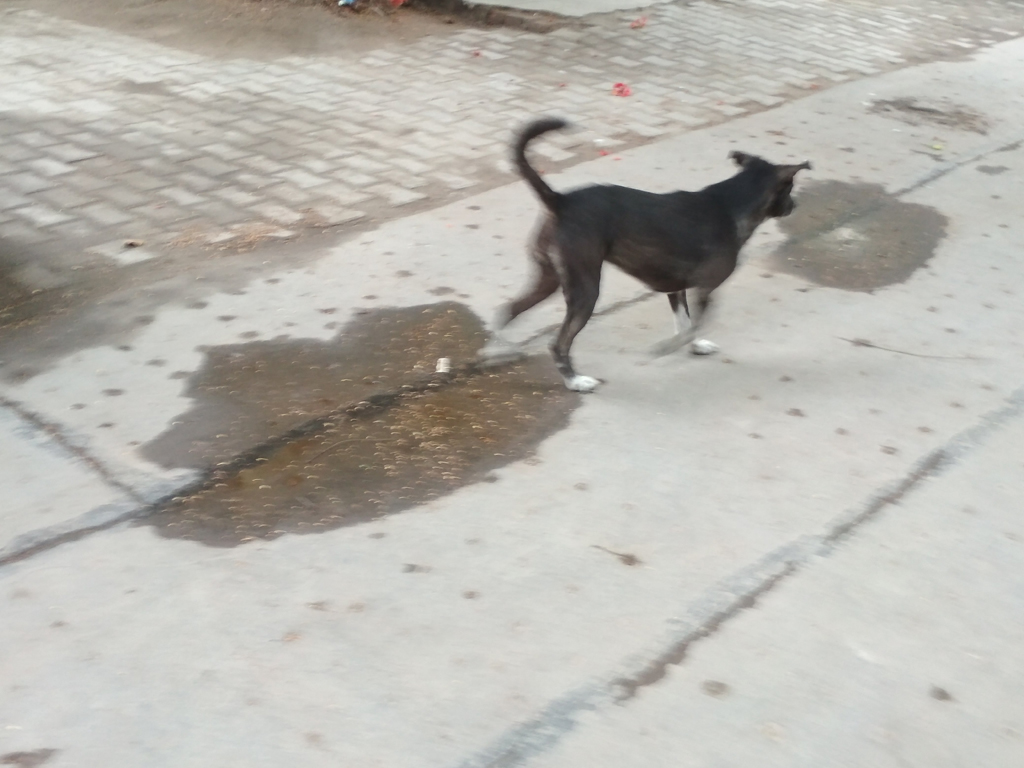dog: (477, 119, 813, 394)
